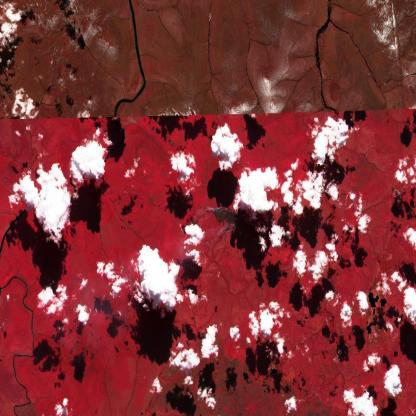fire: (210, 199, 241, 237)
